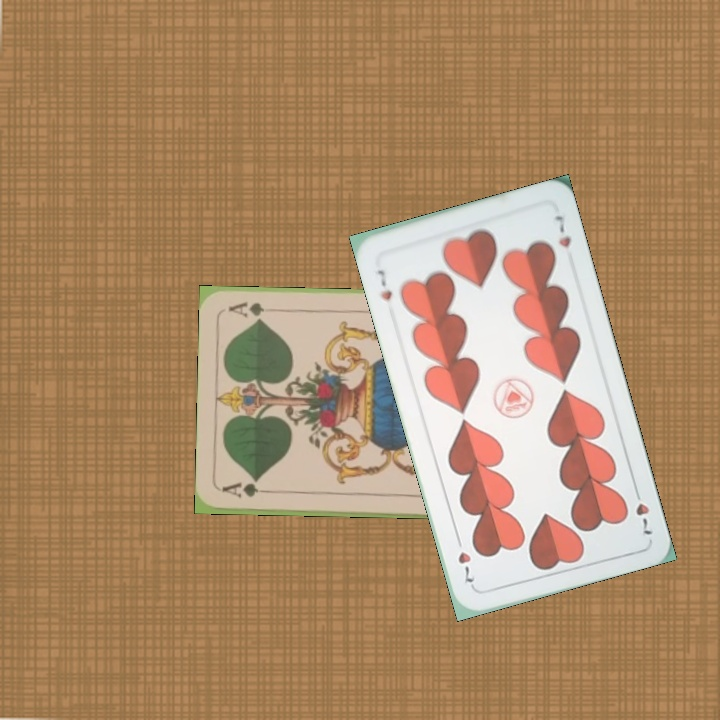GA: (220, 479, 279, 500)
H7: (629, 482, 655, 539), (373, 265, 395, 303)
